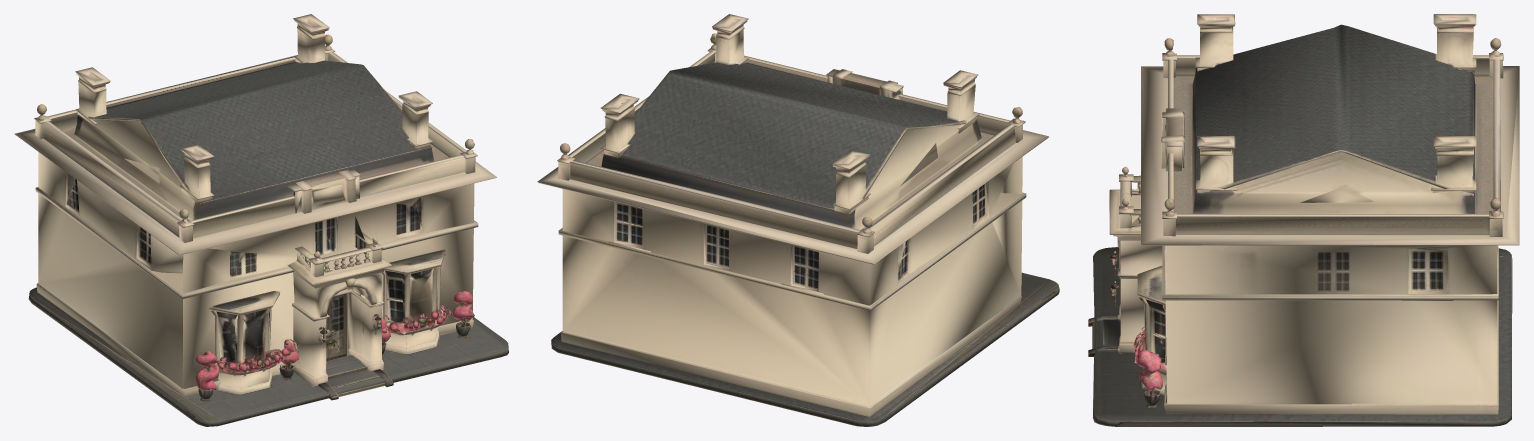
The picture shows the model from 3 angles, left to right: view 1: azimuth 30°, elevation 25°; view 2: azimuth 150°, elevation 25°; view 3: azimuth 270°, elevation 25°; orthographic projection. The views are drawn at different scales.
Size of the model in its own units: 0.9336 by 0.6348 by 0.9521.
Materials: 1 (1 with a texture image).
